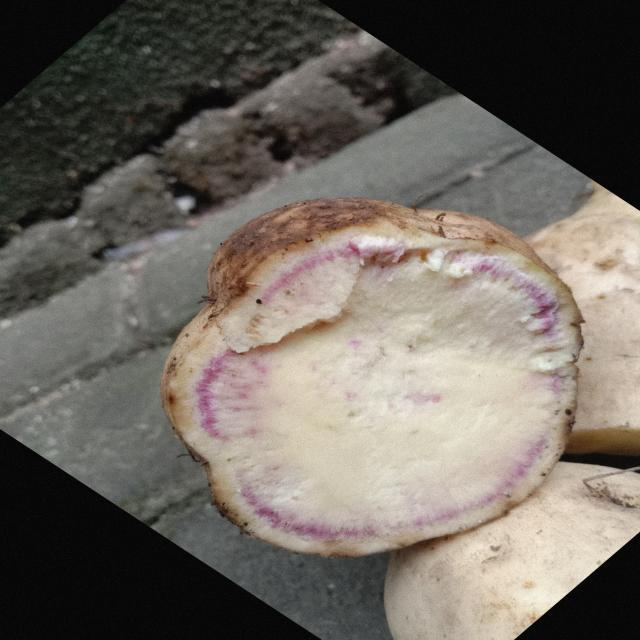Healthy Sweet Potato: (163, 222, 582, 556)
